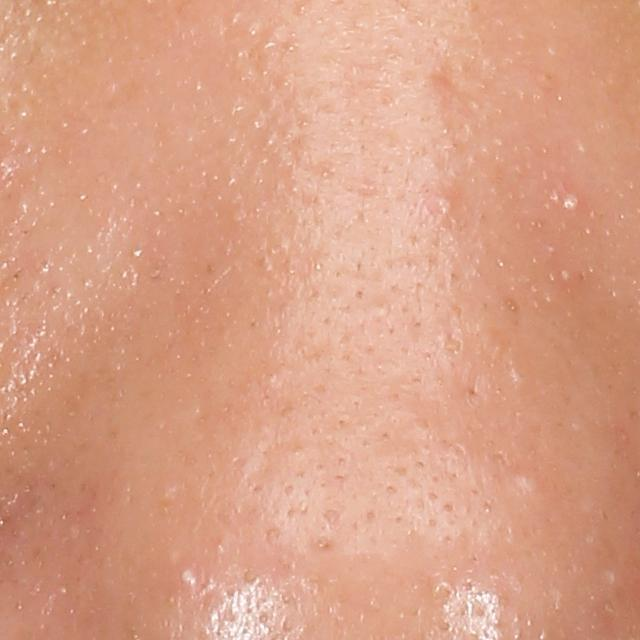comedo: (509, 464, 549, 501)
pustule: (555, 188, 584, 218), (172, 561, 199, 590)
